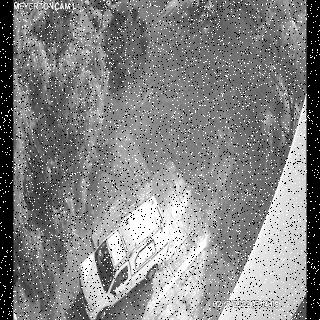car: (78, 192, 169, 319)
